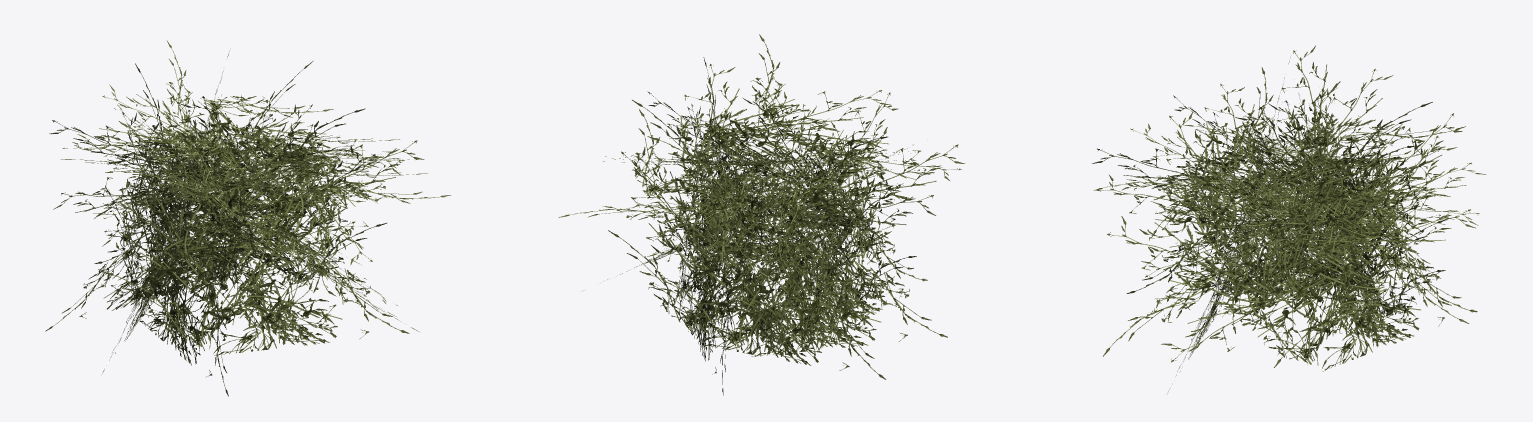
Rendered from Kust1.fbx.
3 views of the same model, side by side, from view 1: azimuth 30°, elevation 25°; view 2: azimuth 150°, elevation 25°; view 3: azimuth 270°, elevation 25° (orthographic). The views are drawn at different scales.
Parts seen in each view (by area): view 1: Plane.000; view 2: Plane.000; view 3: Plane.000.
Boxes of the visible parts, x1,y1,x2,y2 form: Plane.000: [45, 41, 450, 396]; Plane.000: [558, 34, 964, 395]; Plane.000: [1092, 45, 1486, 391].
Bounding box in the file's own units: 263 × 131 × 248.
